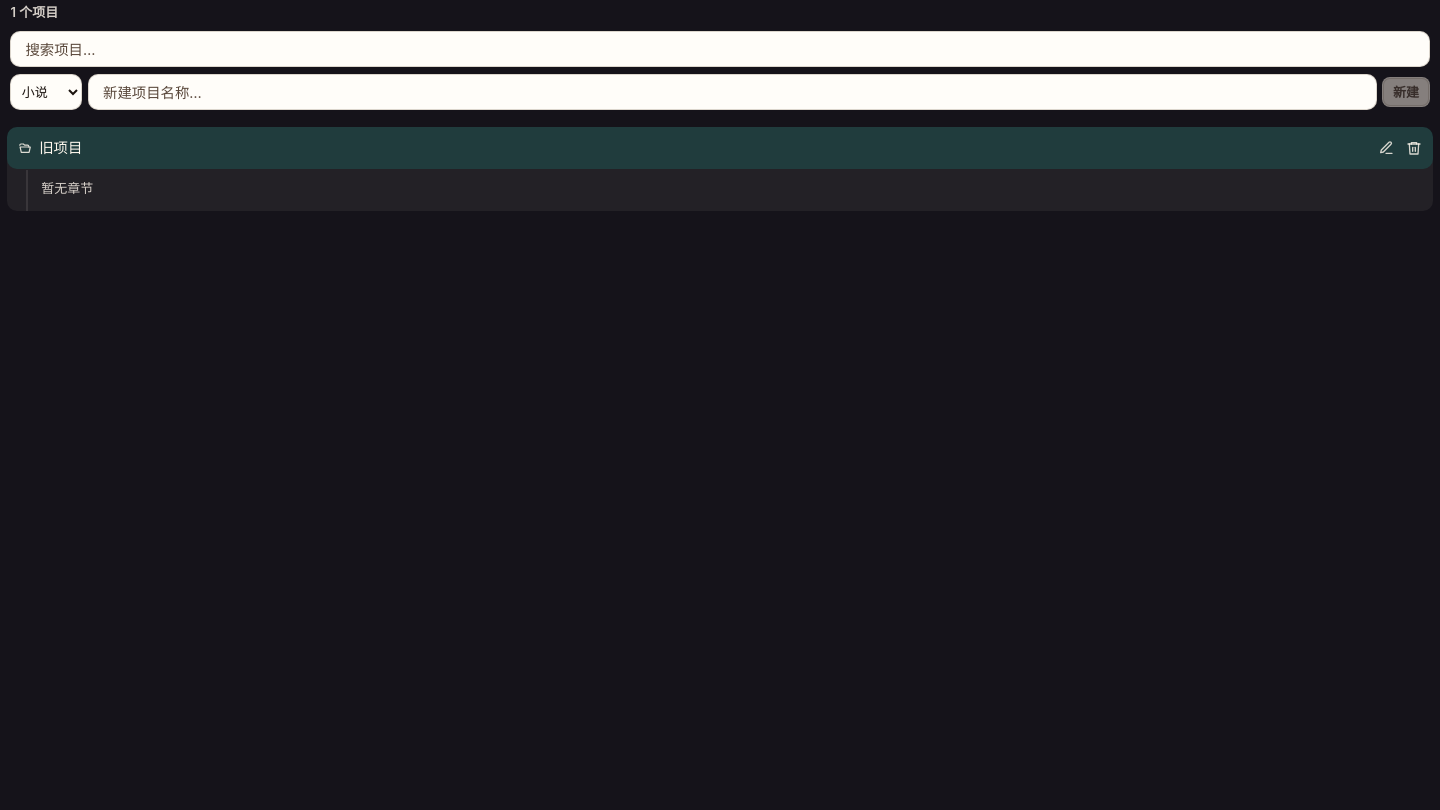
ProjectTree › deletes the selected project locally and notifies the parent
This screenshot has width=1440, height=810.
Check: the text "旧项目" is shown, box [39,136,82,160]
Click the button named "删除 旧项目". click: (1414, 148)
box: [1401,135,1428,162]
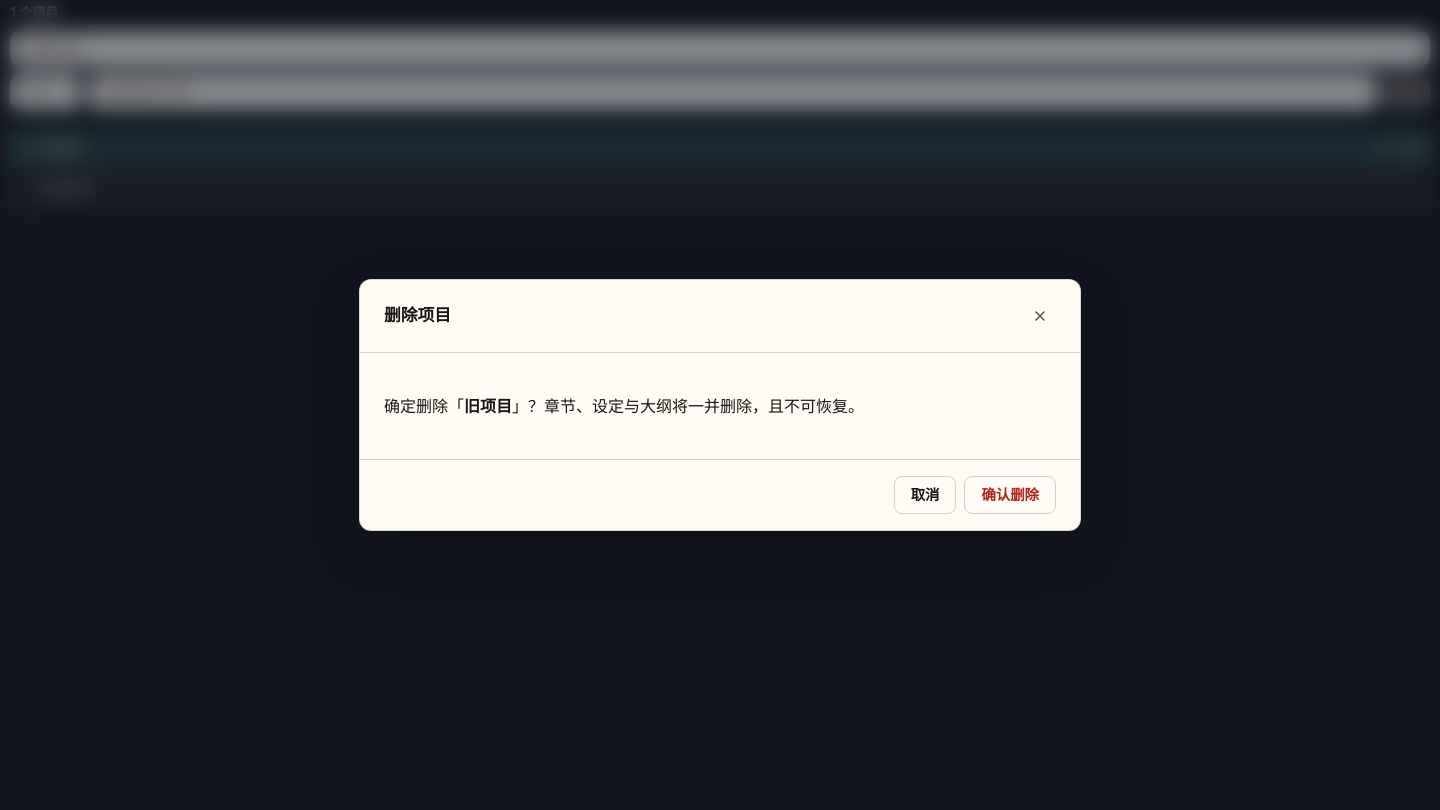
Click the button "确认删除". click: (1010, 495)
box: [964,476,1056,514]
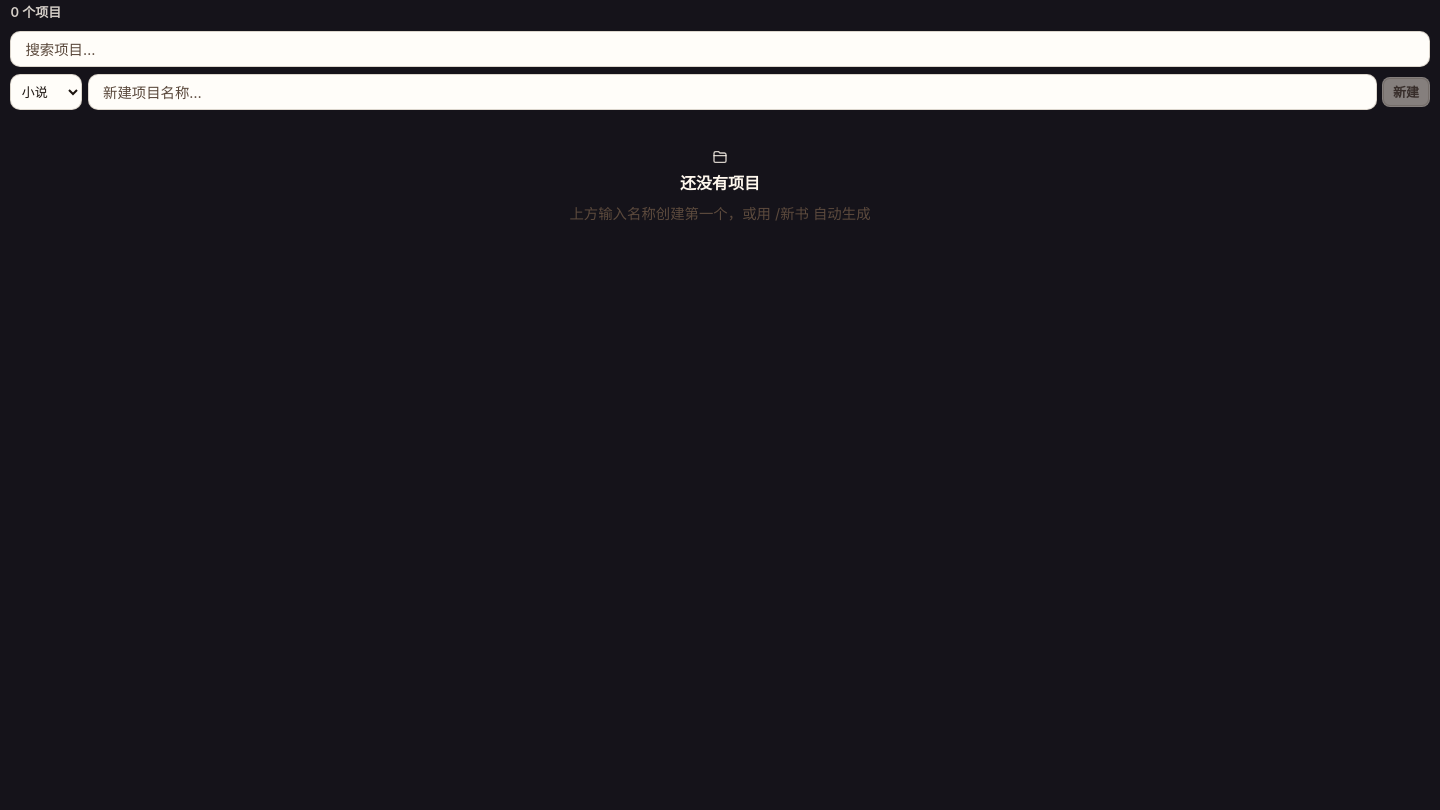
Check: the button "旧项目" is gone
